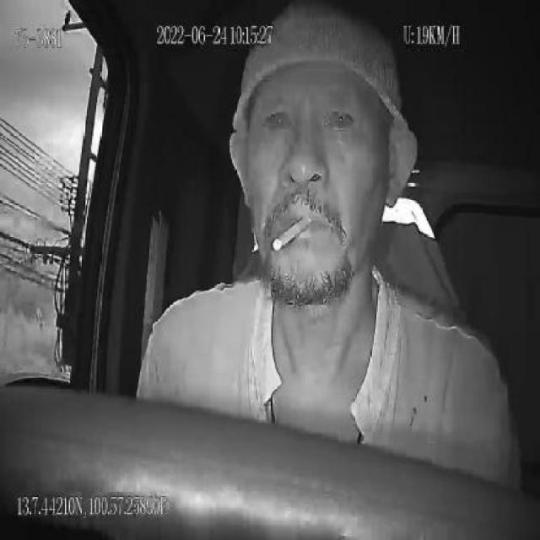smoking: (272, 213, 315, 258)
